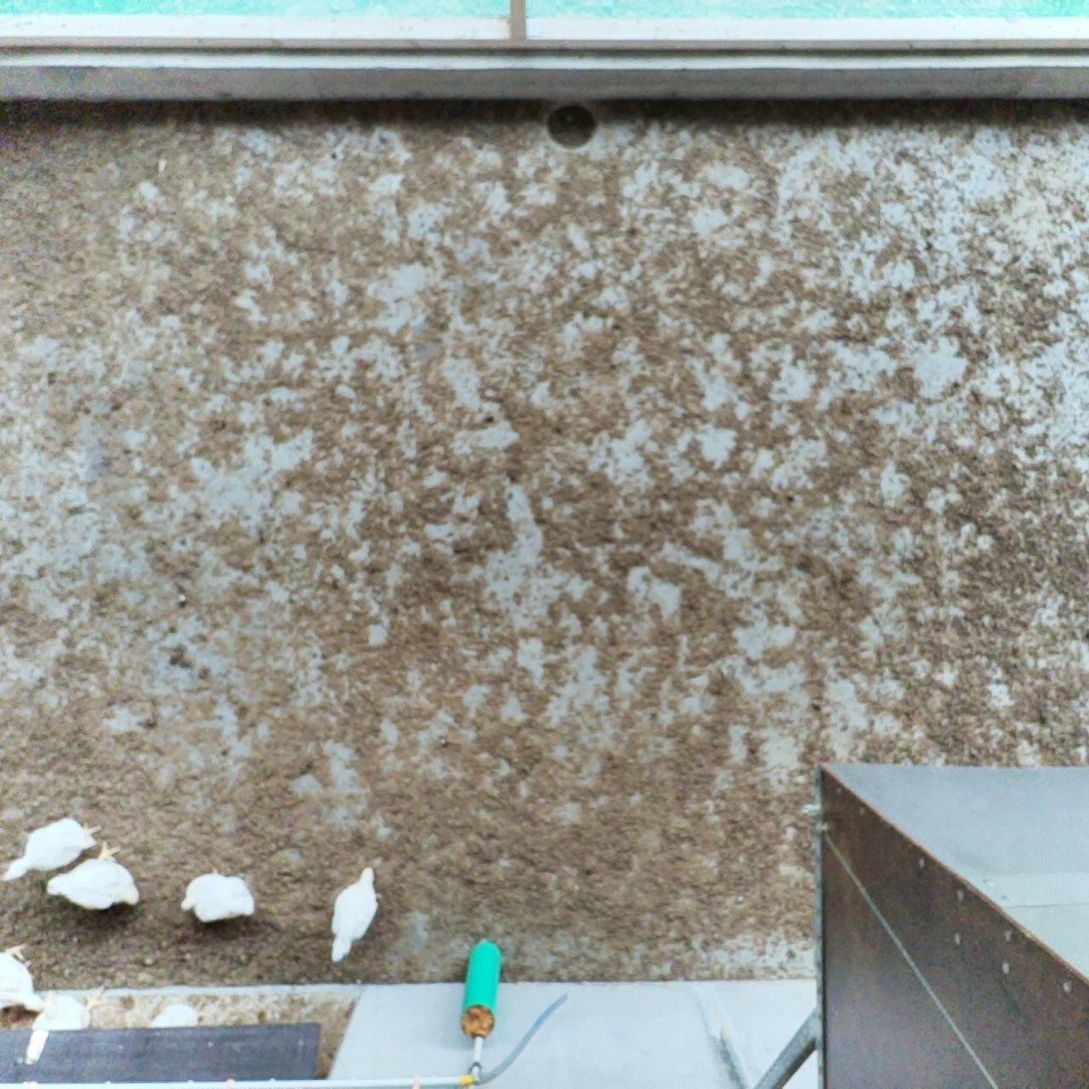chicken: (0, 817, 109, 890), (46, 837, 145, 916), (330, 864, 385, 966), (26, 981, 106, 1047), (179, 866, 256, 927), (0, 937, 45, 1018), (145, 1002, 205, 1058)
